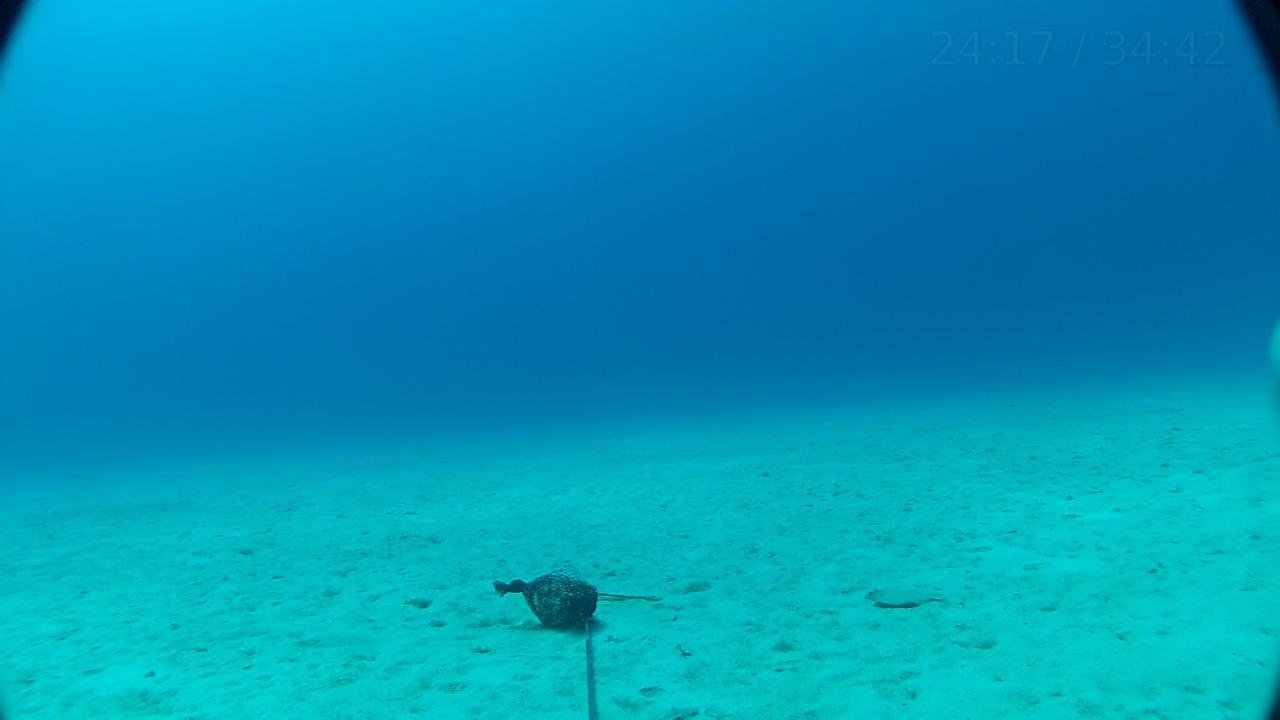bothus: (855, 572, 956, 613)
